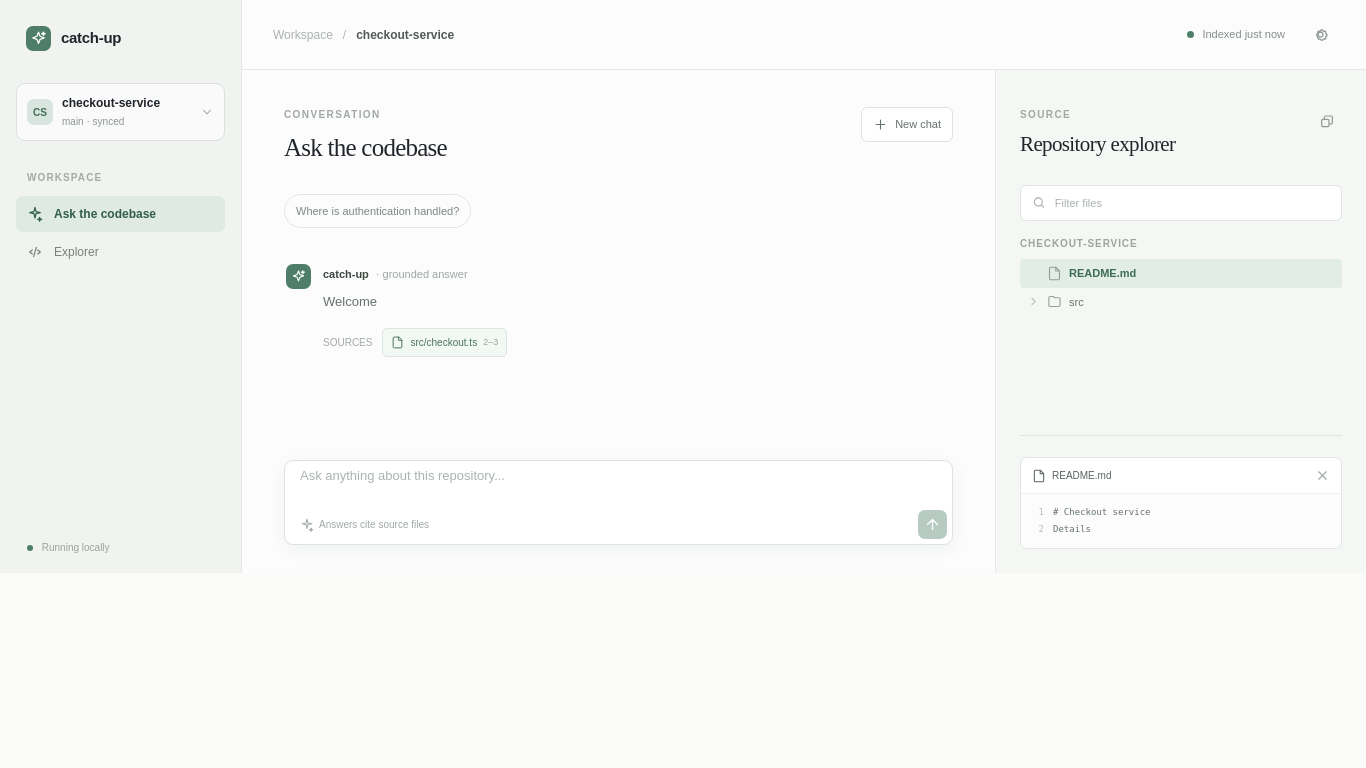
it: Workspace › keeps new-conversation failures separate from indexing errors
Click the button "New chat" at (907, 124), box [861, 107, 953, 142]
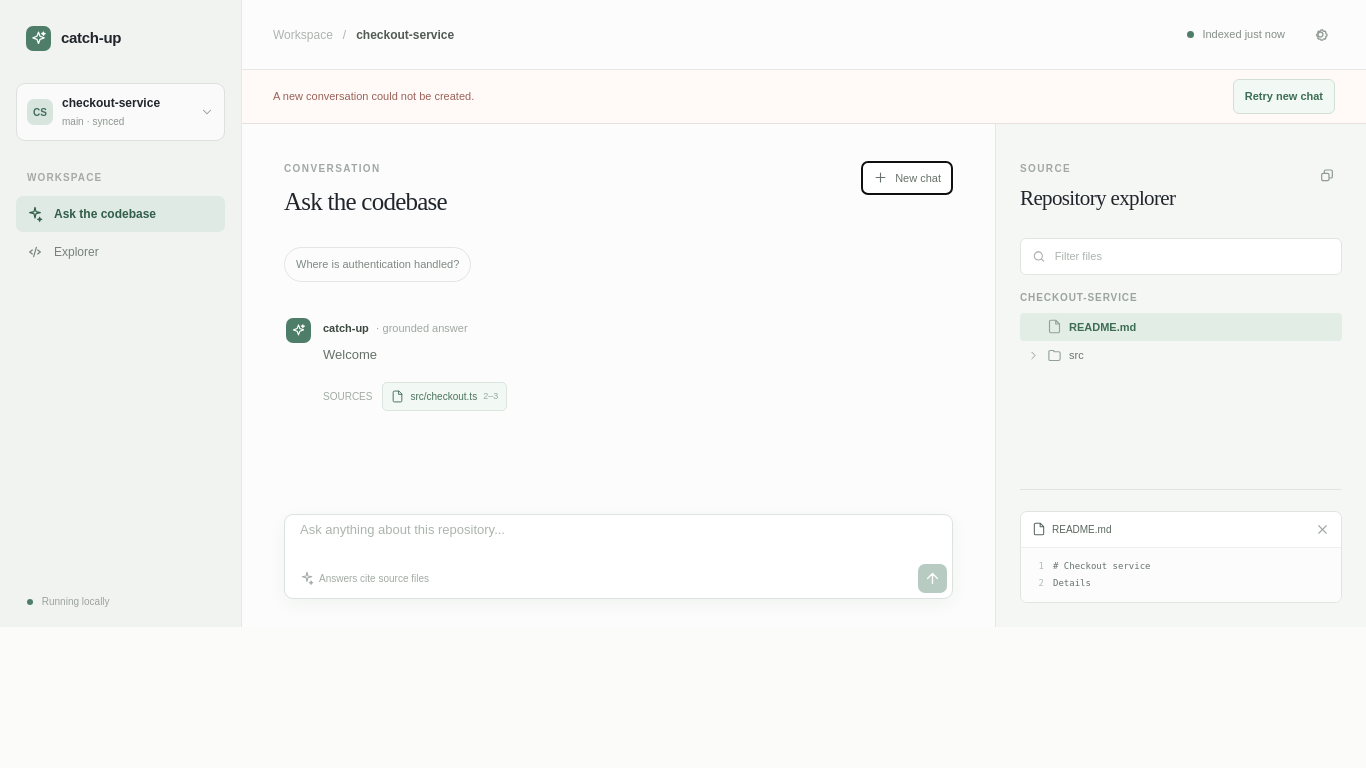
Result: the message shows "A new conversation could not be created." at [273, 90, 474, 102]
